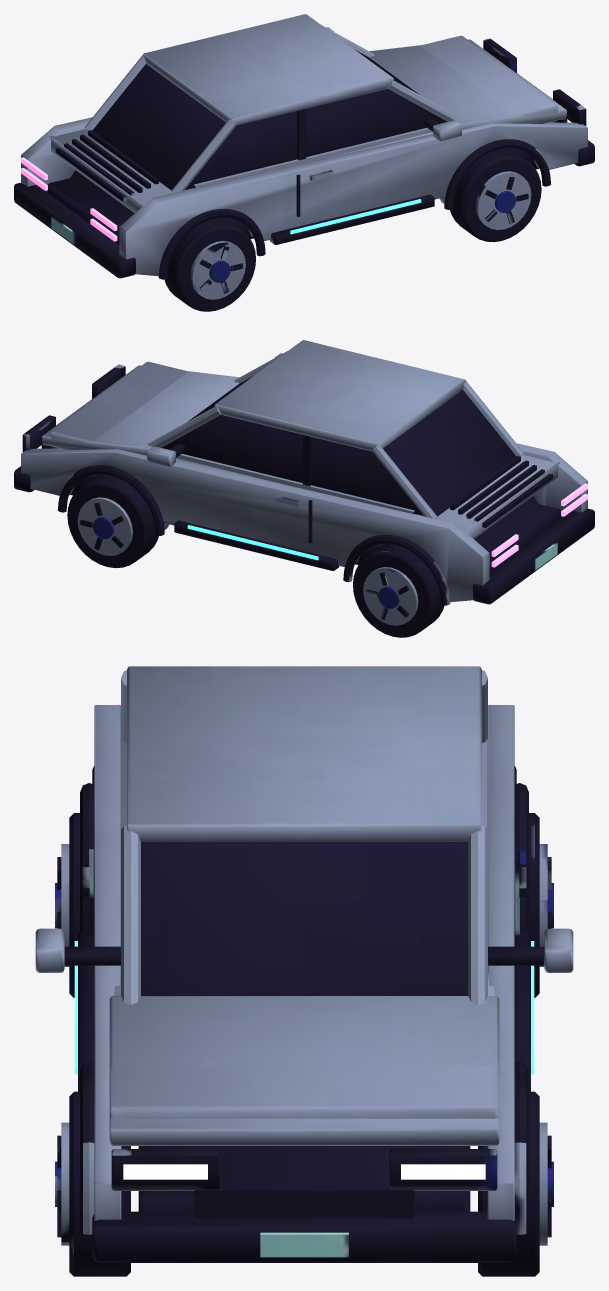
The model's file is traffic-car.glb.
3 views of the same model, one above another, from view 1: azimuth 30°, elevation 25°; view 2: azimuth 150°, elevation 25°; view 3: azimuth 270°, elevation 25° (orthographic). The views are drawn at different scales.
Visible parts, largest first — view 1: rig_traffic_body_paint, rig_traffic_body_detail, rig_traffic_wheel_0_detail, rig_traffic_wheel_2_detail, car_glow_neon_pink, car_glow_neon_soft; view 2: rig_traffic_body_paint, rig_traffic_body_detail, rig_traffic_wheel_1_detail, rig_traffic_wheel_3_detail, car_glow_neon_pink, car_glow_neon_soft; view 3: rig_traffic_body_paint, rig_traffic_body_detail, rig_traffic_wheel_2_detail, rig_traffic_wheel_3_detail, rig_traffic_wheel_0_detail, rig_traffic_wheel_1_detail, car_glow_bulb, car_glow_neon_soft.
Part boxes in pixels (left/top/right/bottom): rig_traffic_body_paint: left=21, top=14, right=587, bottom=276; rig_traffic_body_detail: left=14, top=38, right=594, bottom=279; rig_traffic_wheel_0_detail: left=164, top=217, right=255, bottom=311; rig_traffic_wheel_2_detail: left=450, top=148, right=541, bottom=242; car_glow_neon_pink: left=21, top=157, right=117, bottom=241; car_glow_neon_soft: left=290, top=199, right=421, bottom=234; rig_traffic_body_paint: left=21, top=340, right=587, bottom=602; rig_traffic_body_detail: left=14, top=364, right=594, bottom=605; rig_traffic_wheel_1_detail: left=353, top=543, right=444, bottom=637; rig_traffic_wheel_3_detail: left=67, top=474, right=158, bottom=568; car_glow_neon_pink: left=491, top=483, right=587, bottom=567; car_glow_neon_soft: left=187, top=525, right=318, bottom=560; rig_traffic_body_paint: left=35, top=666, right=573, bottom=1220; rig_traffic_body_detail: left=64, top=766, right=544, bottom=1262; rig_traffic_wheel_2_detail: left=55, top=1091, right=130, bottom=1276; rig_traffic_wheel_3_detail: left=478, top=1091, right=553, bottom=1276; rig_traffic_wheel_0_detail: left=55, top=813, right=79, bottom=997; rig_traffic_wheel_1_detail: left=529, top=813, right=553, bottom=997; car_glow_bulb: left=123, top=1164, right=485, bottom=1179; car_glow_neon_soft: left=74, top=941, right=534, bottom=1074.
Size of the model in its own units: 2.9 by 1.01 by 1.4.
5 materials, 2 textured.
